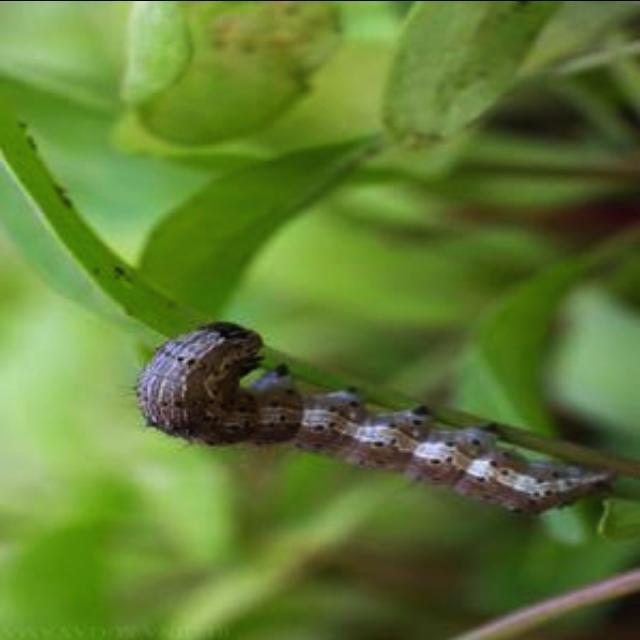Cotton bollworm: (111, 292, 619, 556)
